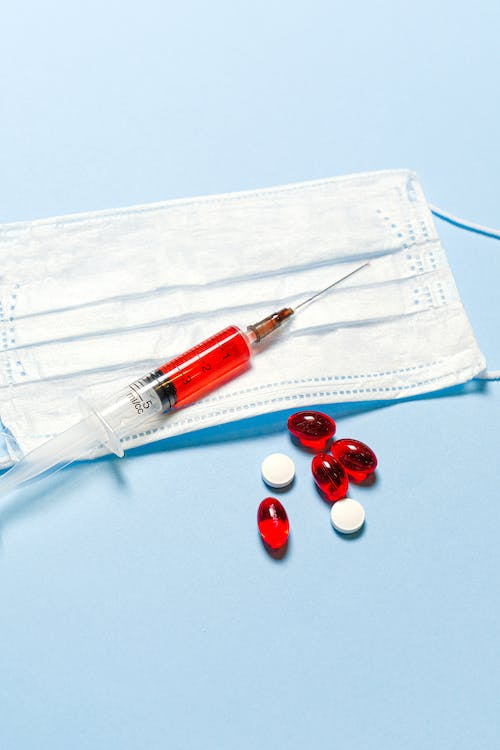blood: (152, 304, 294, 409)
